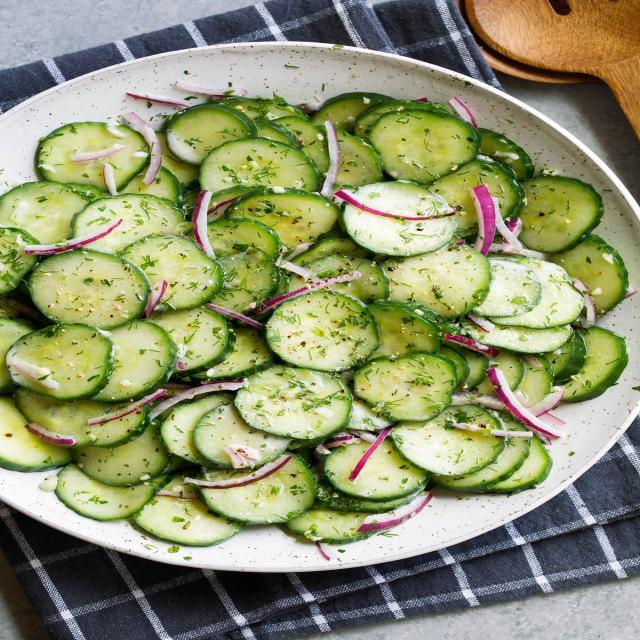Pickle: (13, 389, 292, 485), (28, 249, 150, 329), (264, 291, 381, 371), (336, 181, 458, 256), (193, 452, 317, 524), (234, 365, 352, 440), (368, 109, 480, 184), (390, 404, 506, 476), (6, 324, 114, 401), (548, 234, 636, 328), (381, 244, 491, 319), (38, 121, 150, 194), (120, 234, 223, 311), (120, 234, 223, 311), (428, 158, 525, 236), (354, 351, 458, 421), (92, 320, 178, 402), (71, 194, 186, 254), (519, 175, 604, 254), (491, 258, 585, 329), (225, 189, 339, 247), (54, 464, 169, 521), (324, 439, 429, 501), (148, 306, 236, 375), (73, 425, 171, 486), (201, 139, 315, 190), (0, 181, 90, 244), (133, 495, 244, 546), (165, 104, 257, 165), (0, 396, 73, 472), (431, 438, 532, 492), (562, 326, 628, 402), (472, 259, 542, 316), (24, 219, 122, 255), (311, 92, 392, 131), (218, 248, 279, 299), (315, 485, 420, 513), (118, 168, 182, 205), (548, 334, 585, 384), (491, 351, 525, 390), (499, 414, 527, 431)
